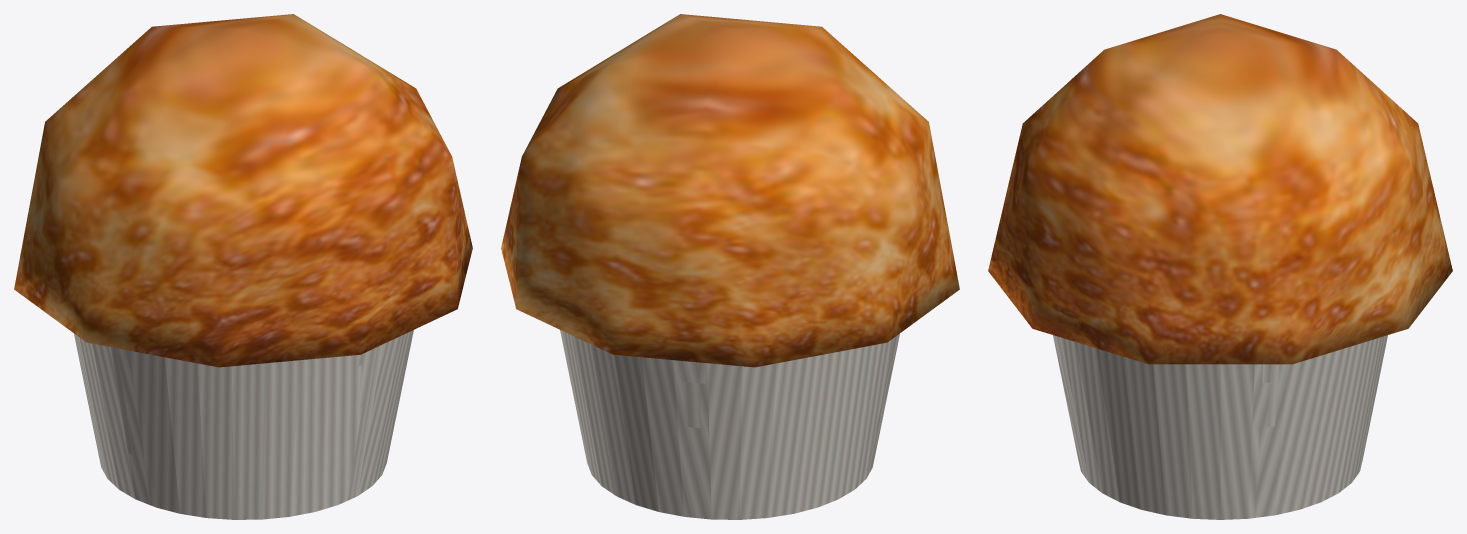
Rendered from muffin.fbx.
3 views of the same model, side by side, from view 1: azimuth 30°, elevation 25°; view 2: azimuth 150°, elevation 25°; view 3: azimuth 270°, elevation 25° (orthographic).
Visible parts, largest first — view 1: Muffin; view 2: Muffin; view 3: Muffin.
Part boxes in pixels (x1=…): Muffin: x1=14, y1=14, x2=472, y2=519; Muffin: x1=501, y1=14, x2=959, y2=519; Muffin: x1=988, y1=14, x2=1452, y2=519.
Bounding box in the file's own units: 9.09 × 9.66 × 9.56.
